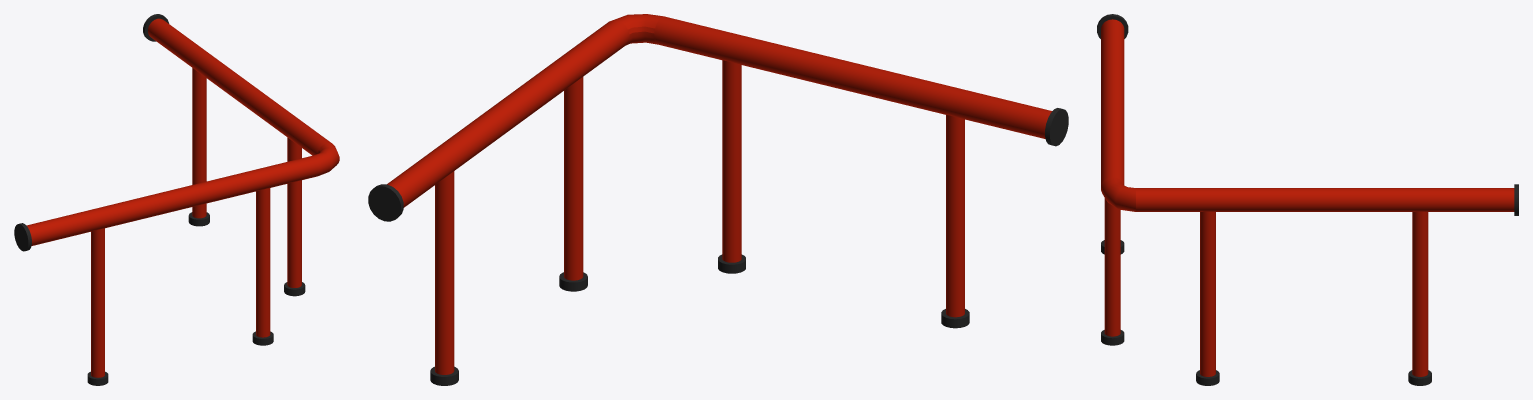
File: S_assete_barrier_3.fbx
The picture shows the model from 3 angles, left to right: view 1: azimuth 30°, elevation 25°; view 2: azimuth 150°, elevation 25°; view 3: azimuth 270°, elevation 25°; orthographic projection. The views are drawn at different scales.
Parts seen in each view (by area): view 1: Cylinder024; view 2: Cylinder024; view 3: Cylinder024.
Boxes of the visible parts, bbox=[...] form: Cylinder024: bbox=[14, 14, 339, 385]; Cylinder024: bbox=[368, 14, 1068, 385]; Cylinder024: bbox=[1097, 14, 1518, 385].
Bounding box in the file's own units: 211 × 108 × 211.
